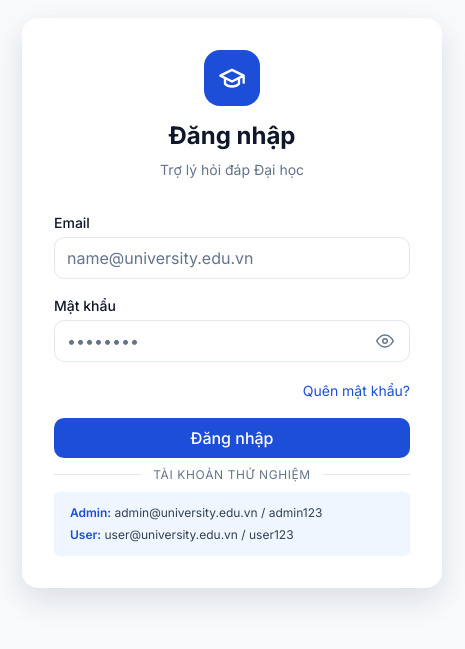
Scenario: LoginForm › báo lỗi khi để trống email và mật khẩu
Click the button "Đăng nhập": point(232, 438) x1=54 y1=418 x2=410 y2=458
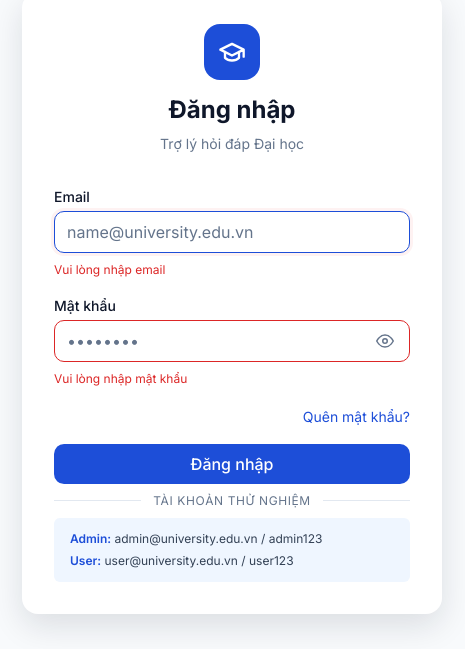
Check: the text "Vui lòng nhập email" is shown, box x1=54 y1=262 x2=165 y2=277
Check: the text "Vui lòng nhập mật khẩu" is shown, box x1=54 y1=371 x2=187 y2=386
